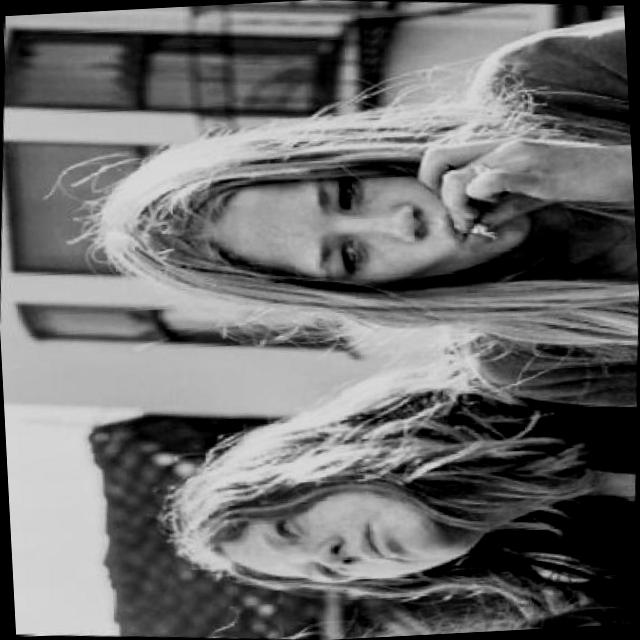cigarette: (462, 134, 608, 244)
